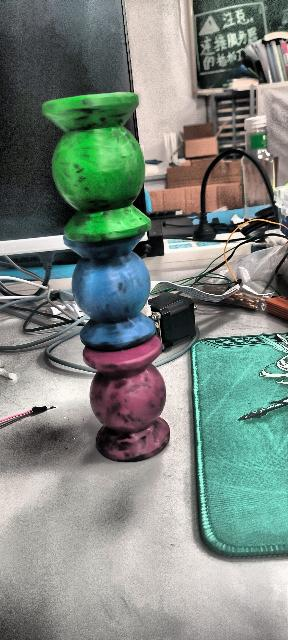blue: (51, 232, 154, 353)
green: (38, 89, 154, 246)
red: (84, 335, 174, 460)
